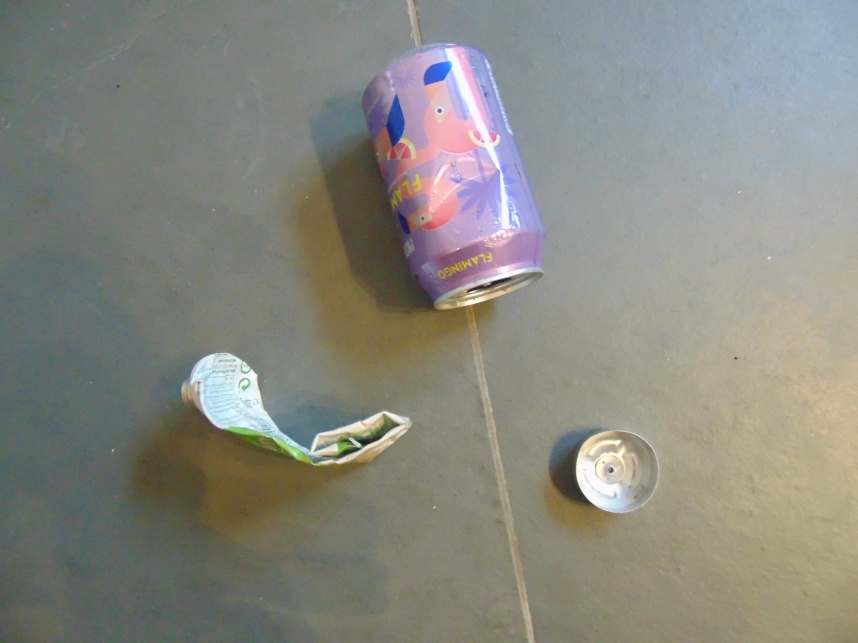metal: (182, 350, 413, 468), (571, 427, 660, 514)
metal_can: (360, 43, 548, 312)
